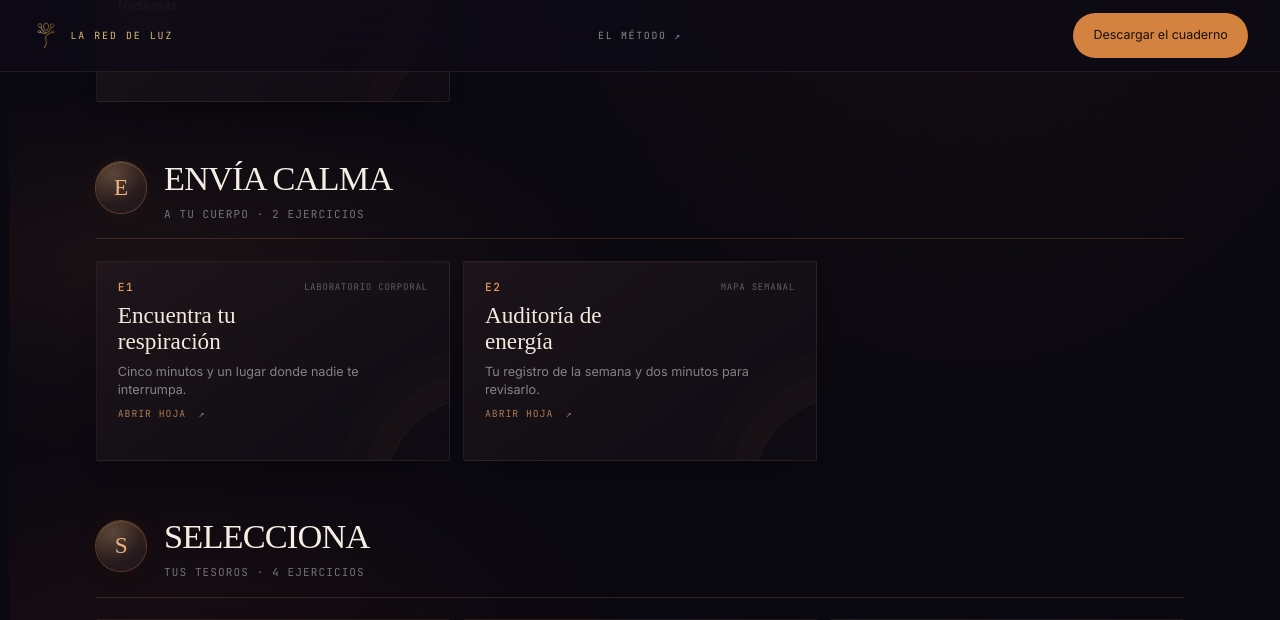
Test: cuaderno de trabajo › E2 captura un tramo recurrente en una sola vez
(page scrolled)
Click the button "E2" at [640, 361], box [463, 261, 817, 461]
(page scrolled)
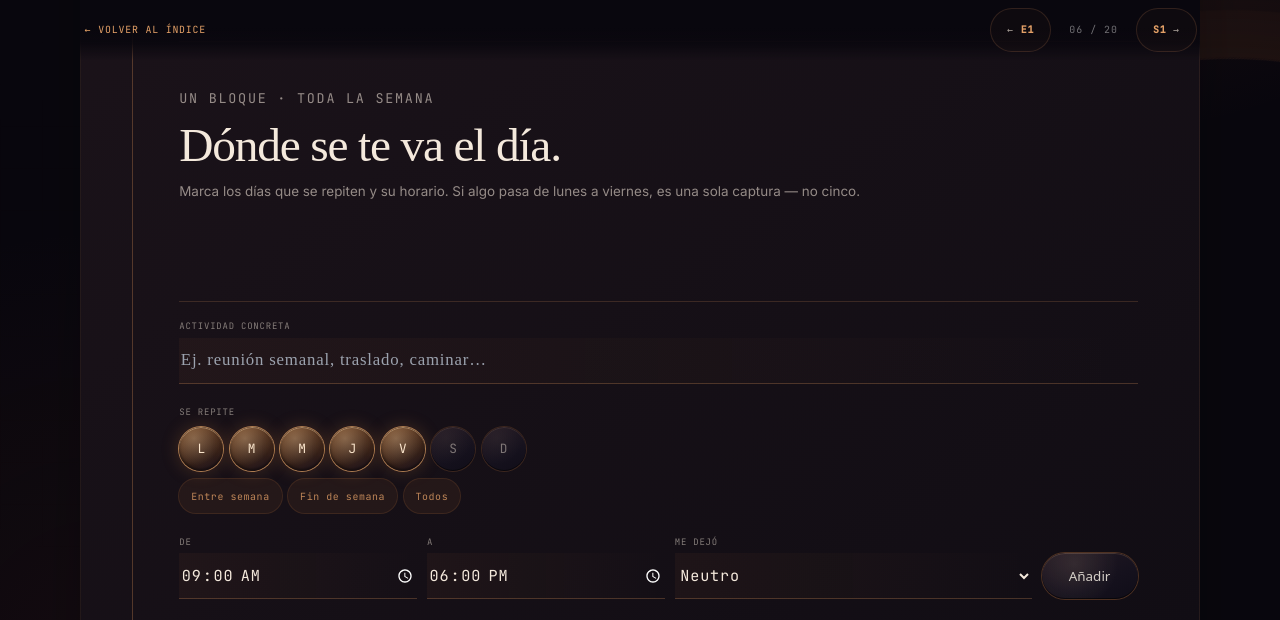
Expected: the checkbox named "Lunes" is shown, [179, 427, 223, 471]
Expected: the checkbox named "Domingo" is shown, [482, 427, 526, 471]
Type "Junta sin propósito" into the field labelled "Actividad concreta" at [658, 360], box [179, 338, 1138, 384]
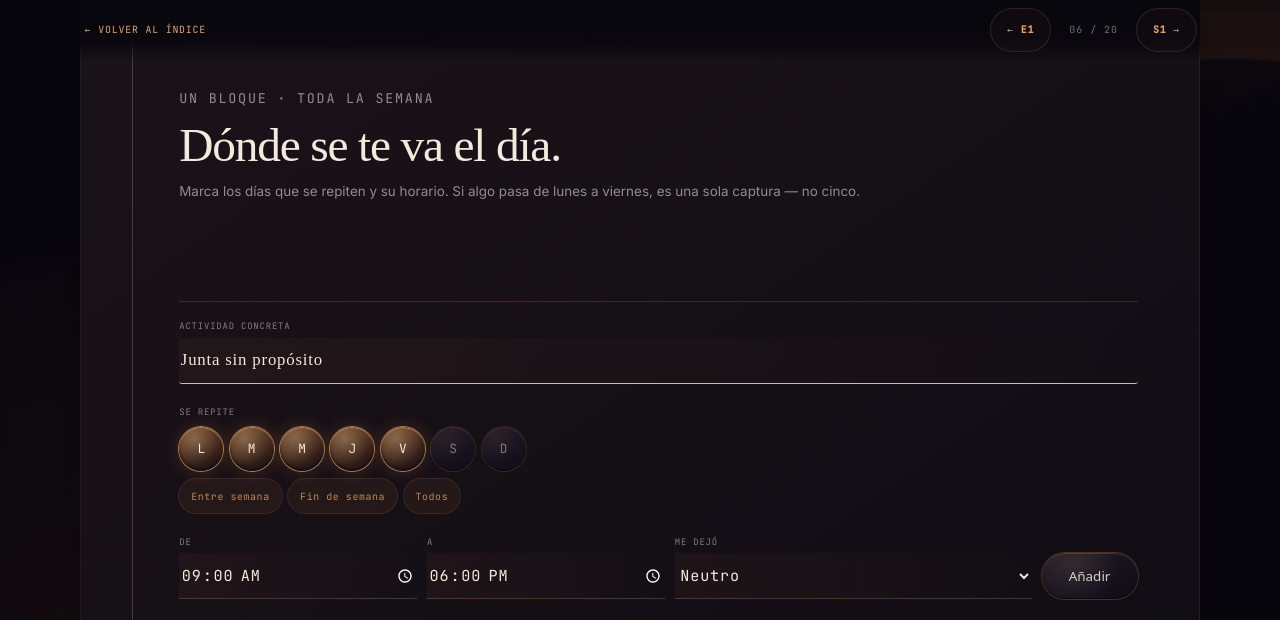
Select "Me drenó" in the dropdown named "cómo me dejó" at [853, 576], box [675, 554, 1032, 600]
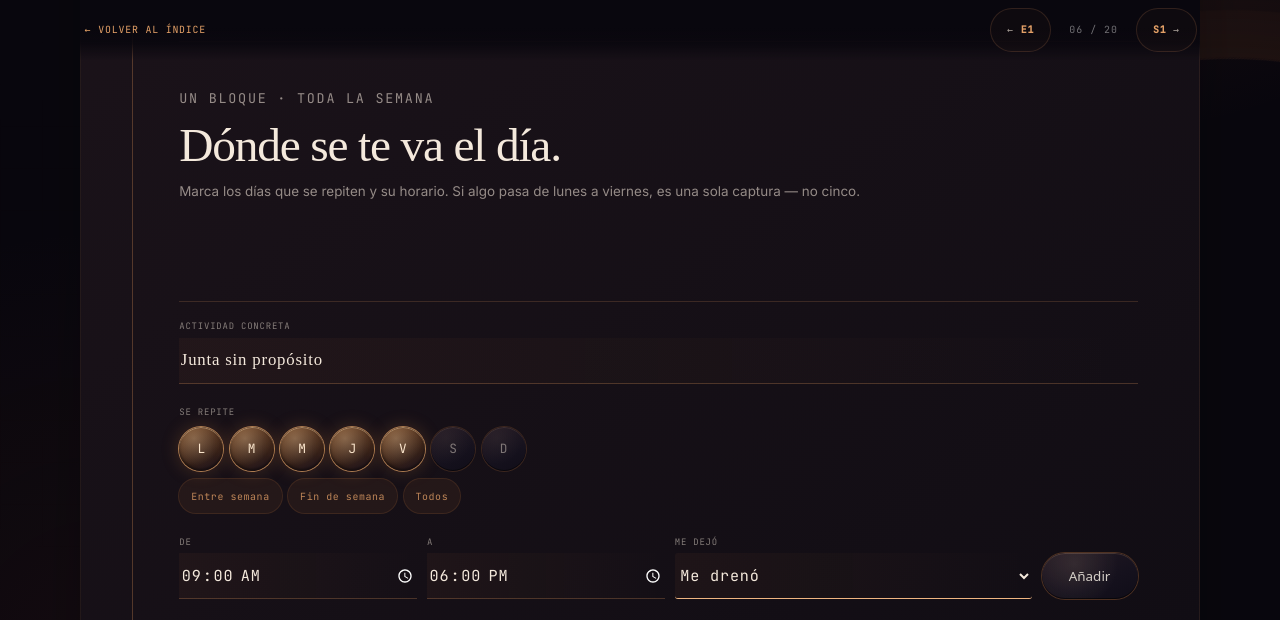
Click the button "Añadir" at [1090, 576], box [1042, 554, 1138, 600]
(page scrolled)
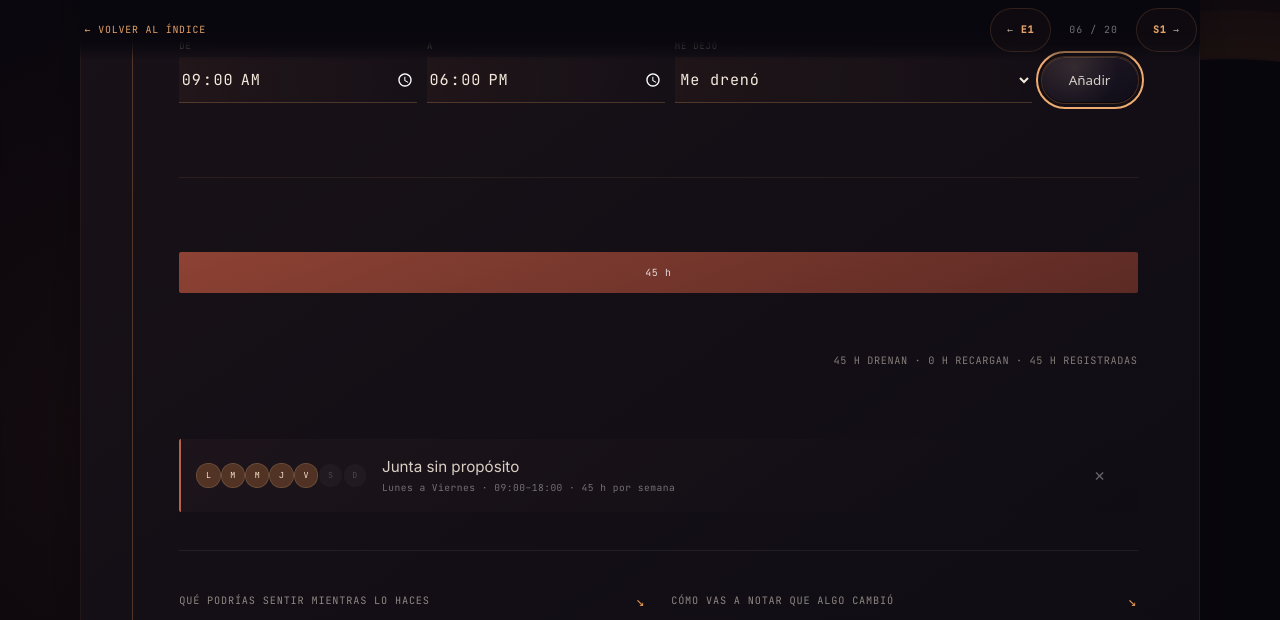
Expected: the text "Junta sin propósito" is shown, [382, 457, 519, 476]
Expected: the text "Lunes a Viernes · 09:00–18:00 · 45 h por semana" is shown, [382, 481, 675, 494]
Expected: the text "45 h drenan · 0 h recargan · 45 h registradas" is shown, [834, 354, 1138, 367]
